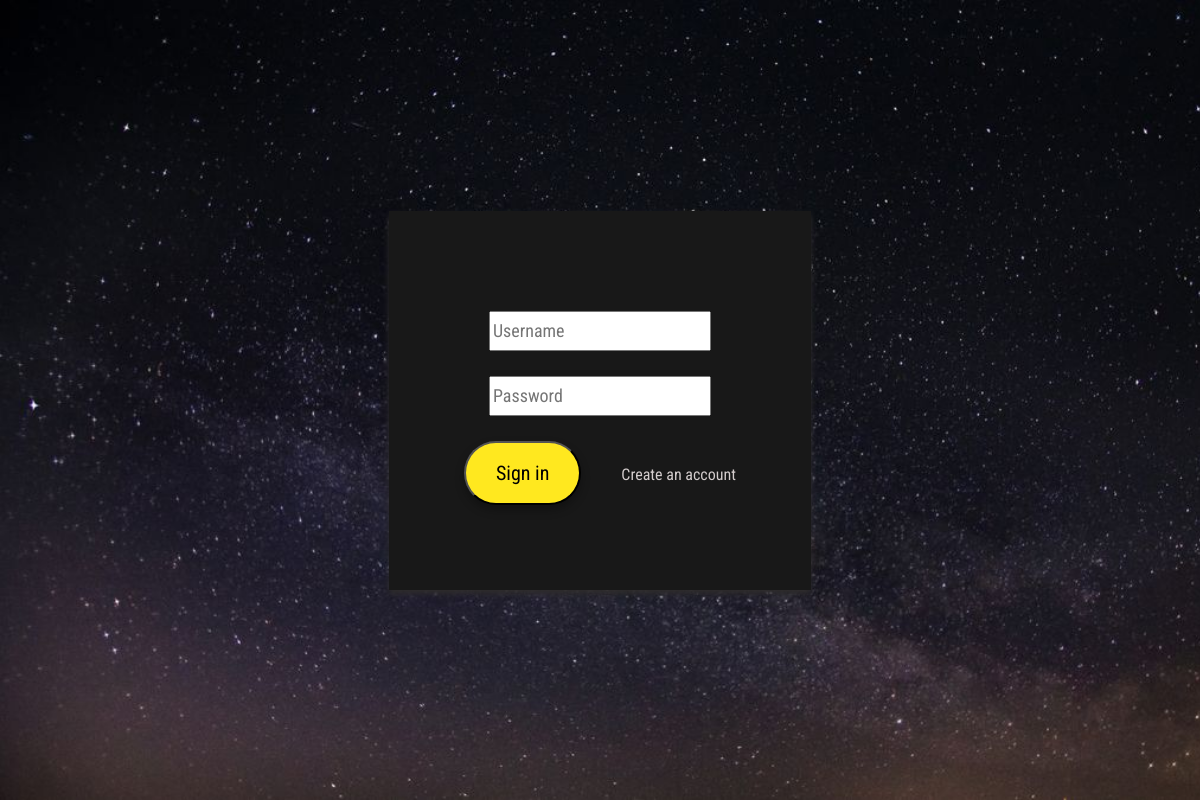
Scenario: Login page › Inputs are required after clicking Sign in
Click the button "Sign in".
click(523, 473)  # box [464,441,581,505]
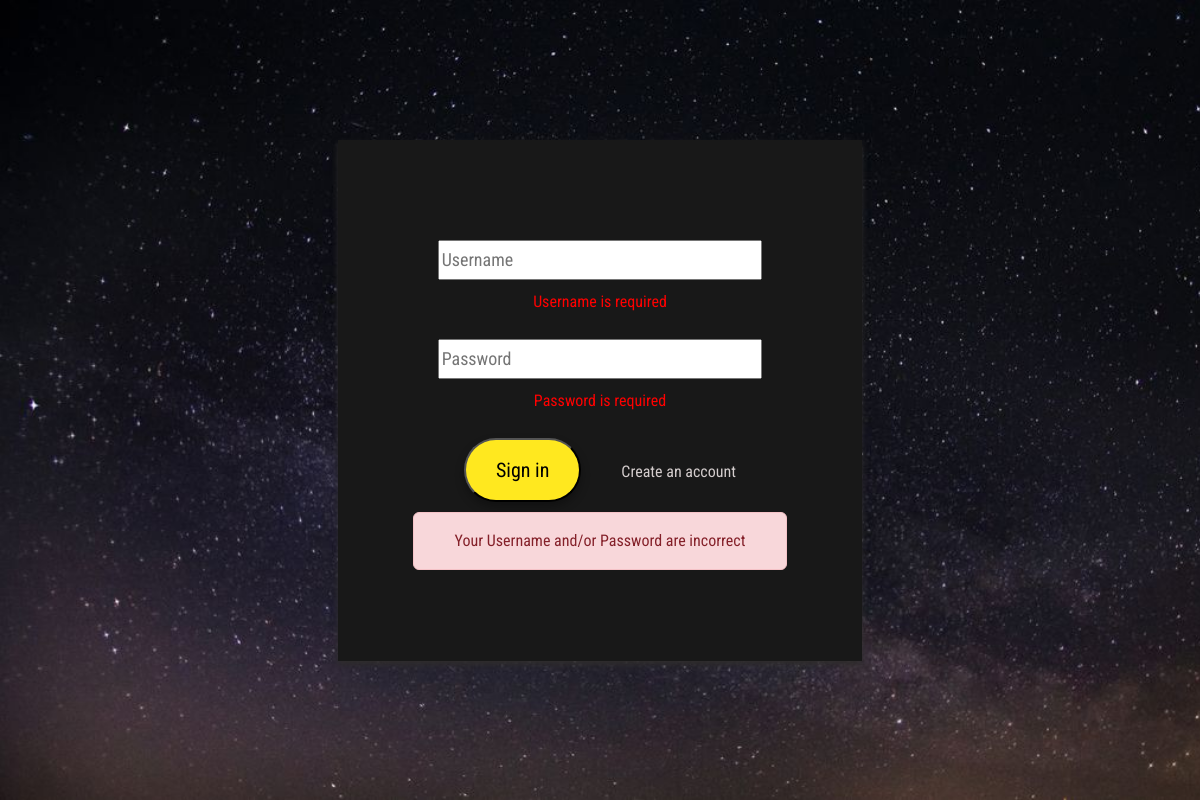
Expected: the text "is required" is shown, [533,290,667,314]
